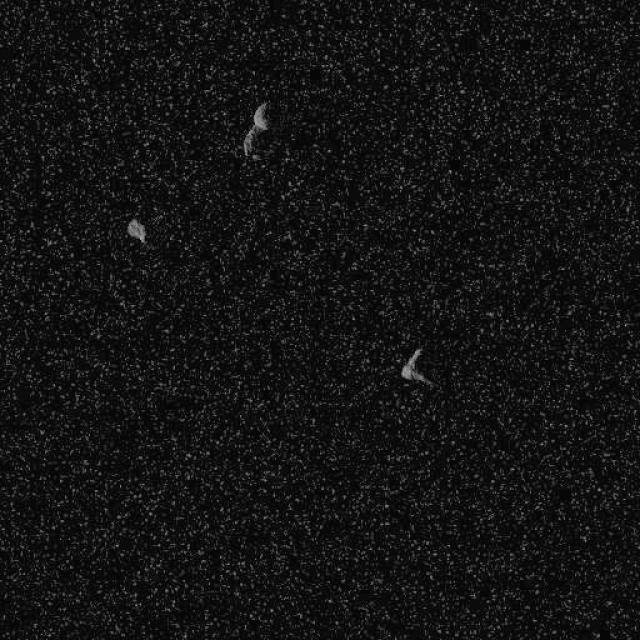D2: (241, 100, 271, 159), (398, 347, 434, 388), (125, 216, 146, 242)
